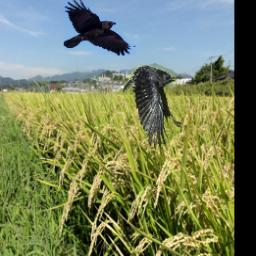Crow: (123, 66, 182, 150), (64, 0, 136, 57)
